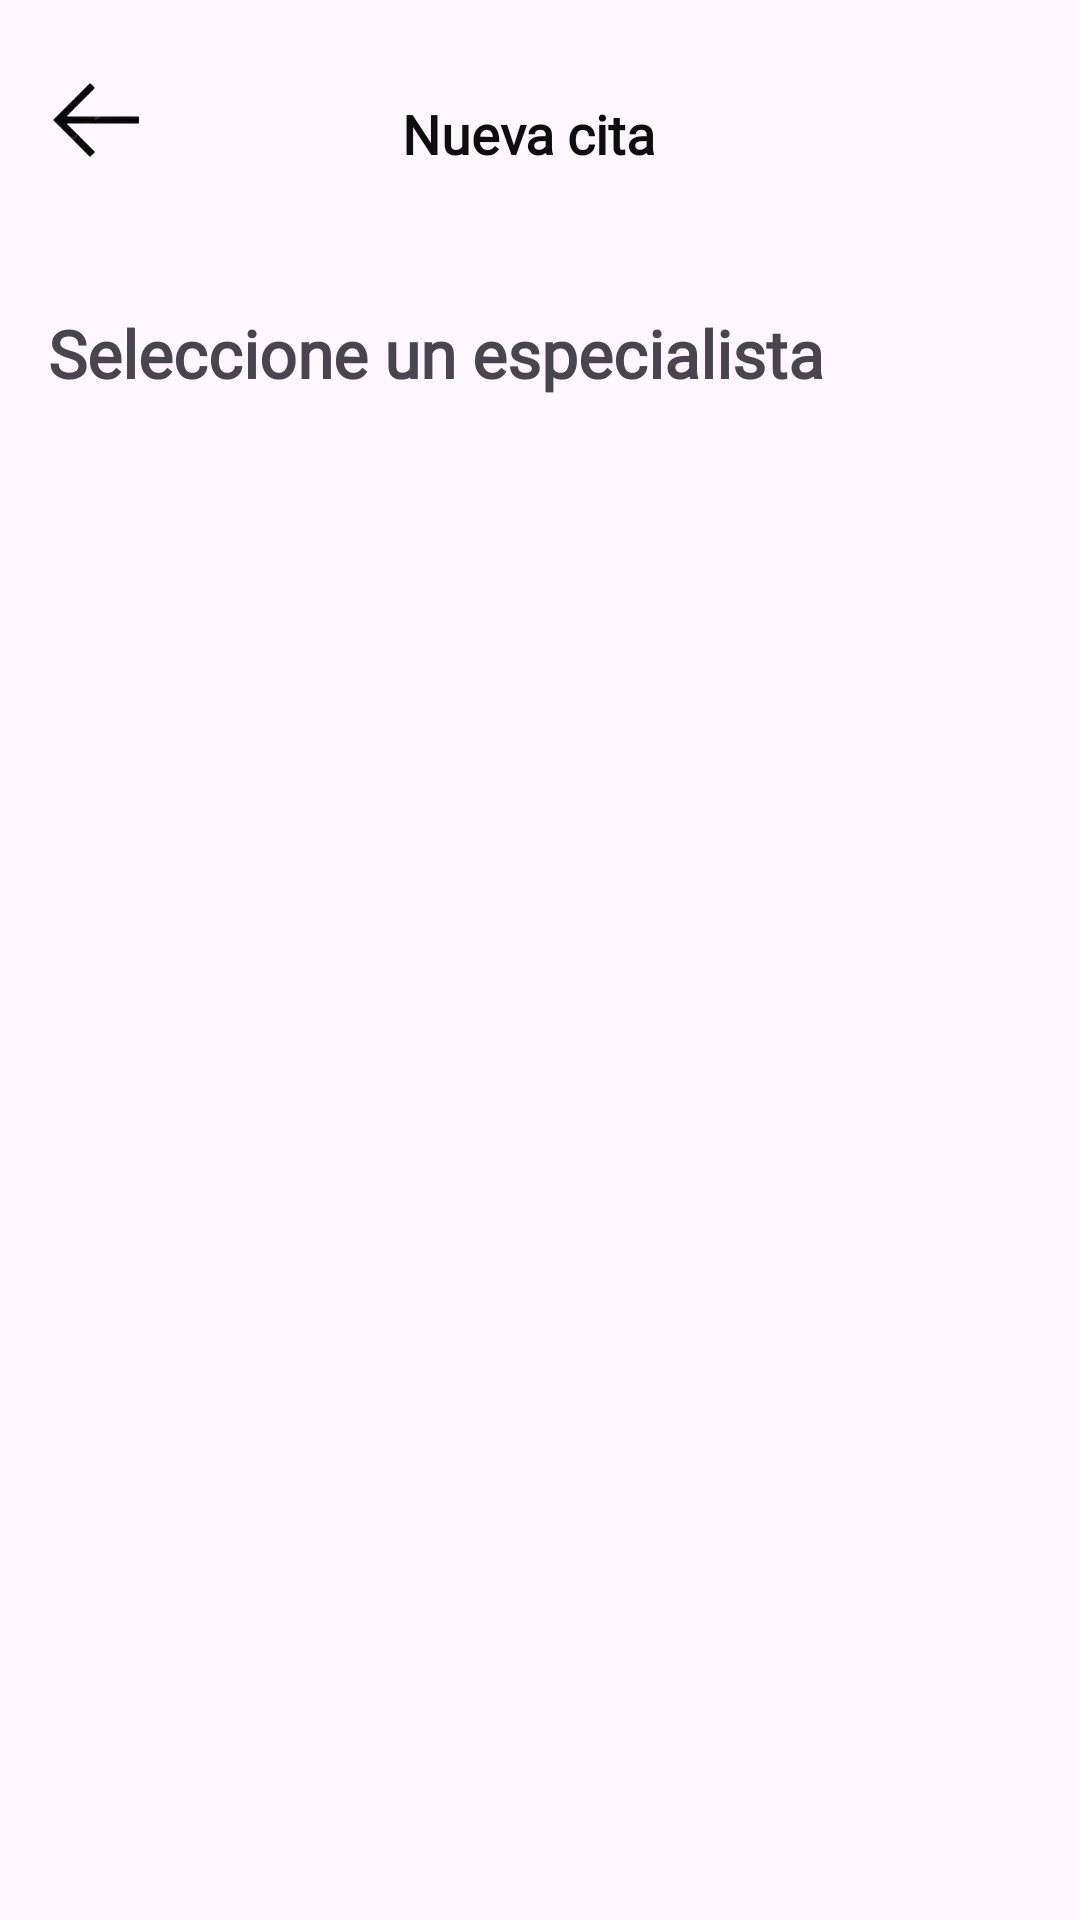

Point at icon controls on the screen. Image size 1080 × 1920, points as (x=x, y=y).
Botón para regresar a la pantalla anterior: (x=96, y=120)
